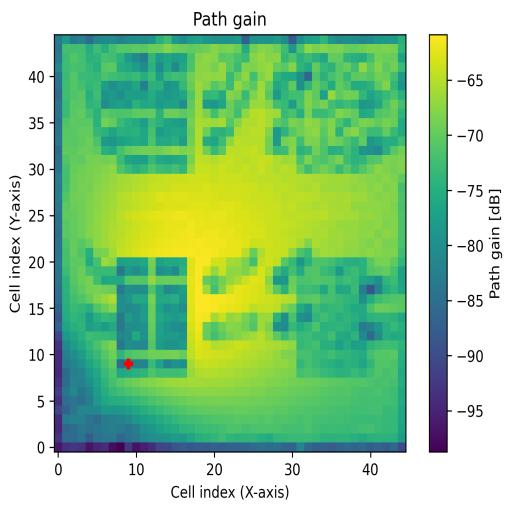Concrete: (295, 52, 376, 174)
Glass: (116, 53, 188, 175)
Metal: (298, 257, 368, 378)
Wood: (116, 258, 187, 380)
